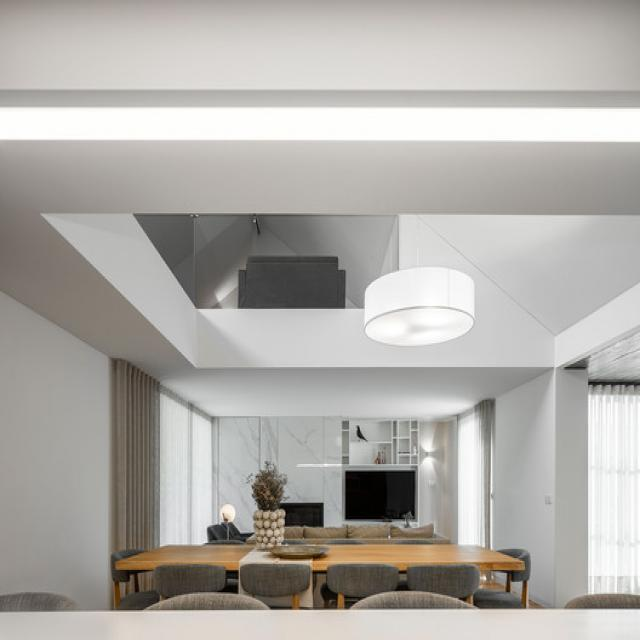couch: (284, 523, 451, 545), (246, 534, 254, 544)
